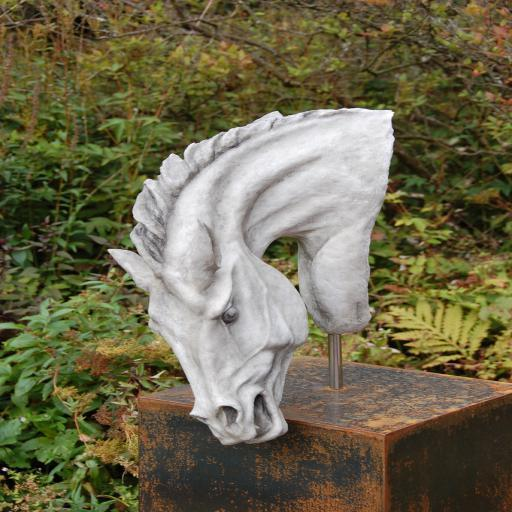Horse: (102, 108, 394, 443)
